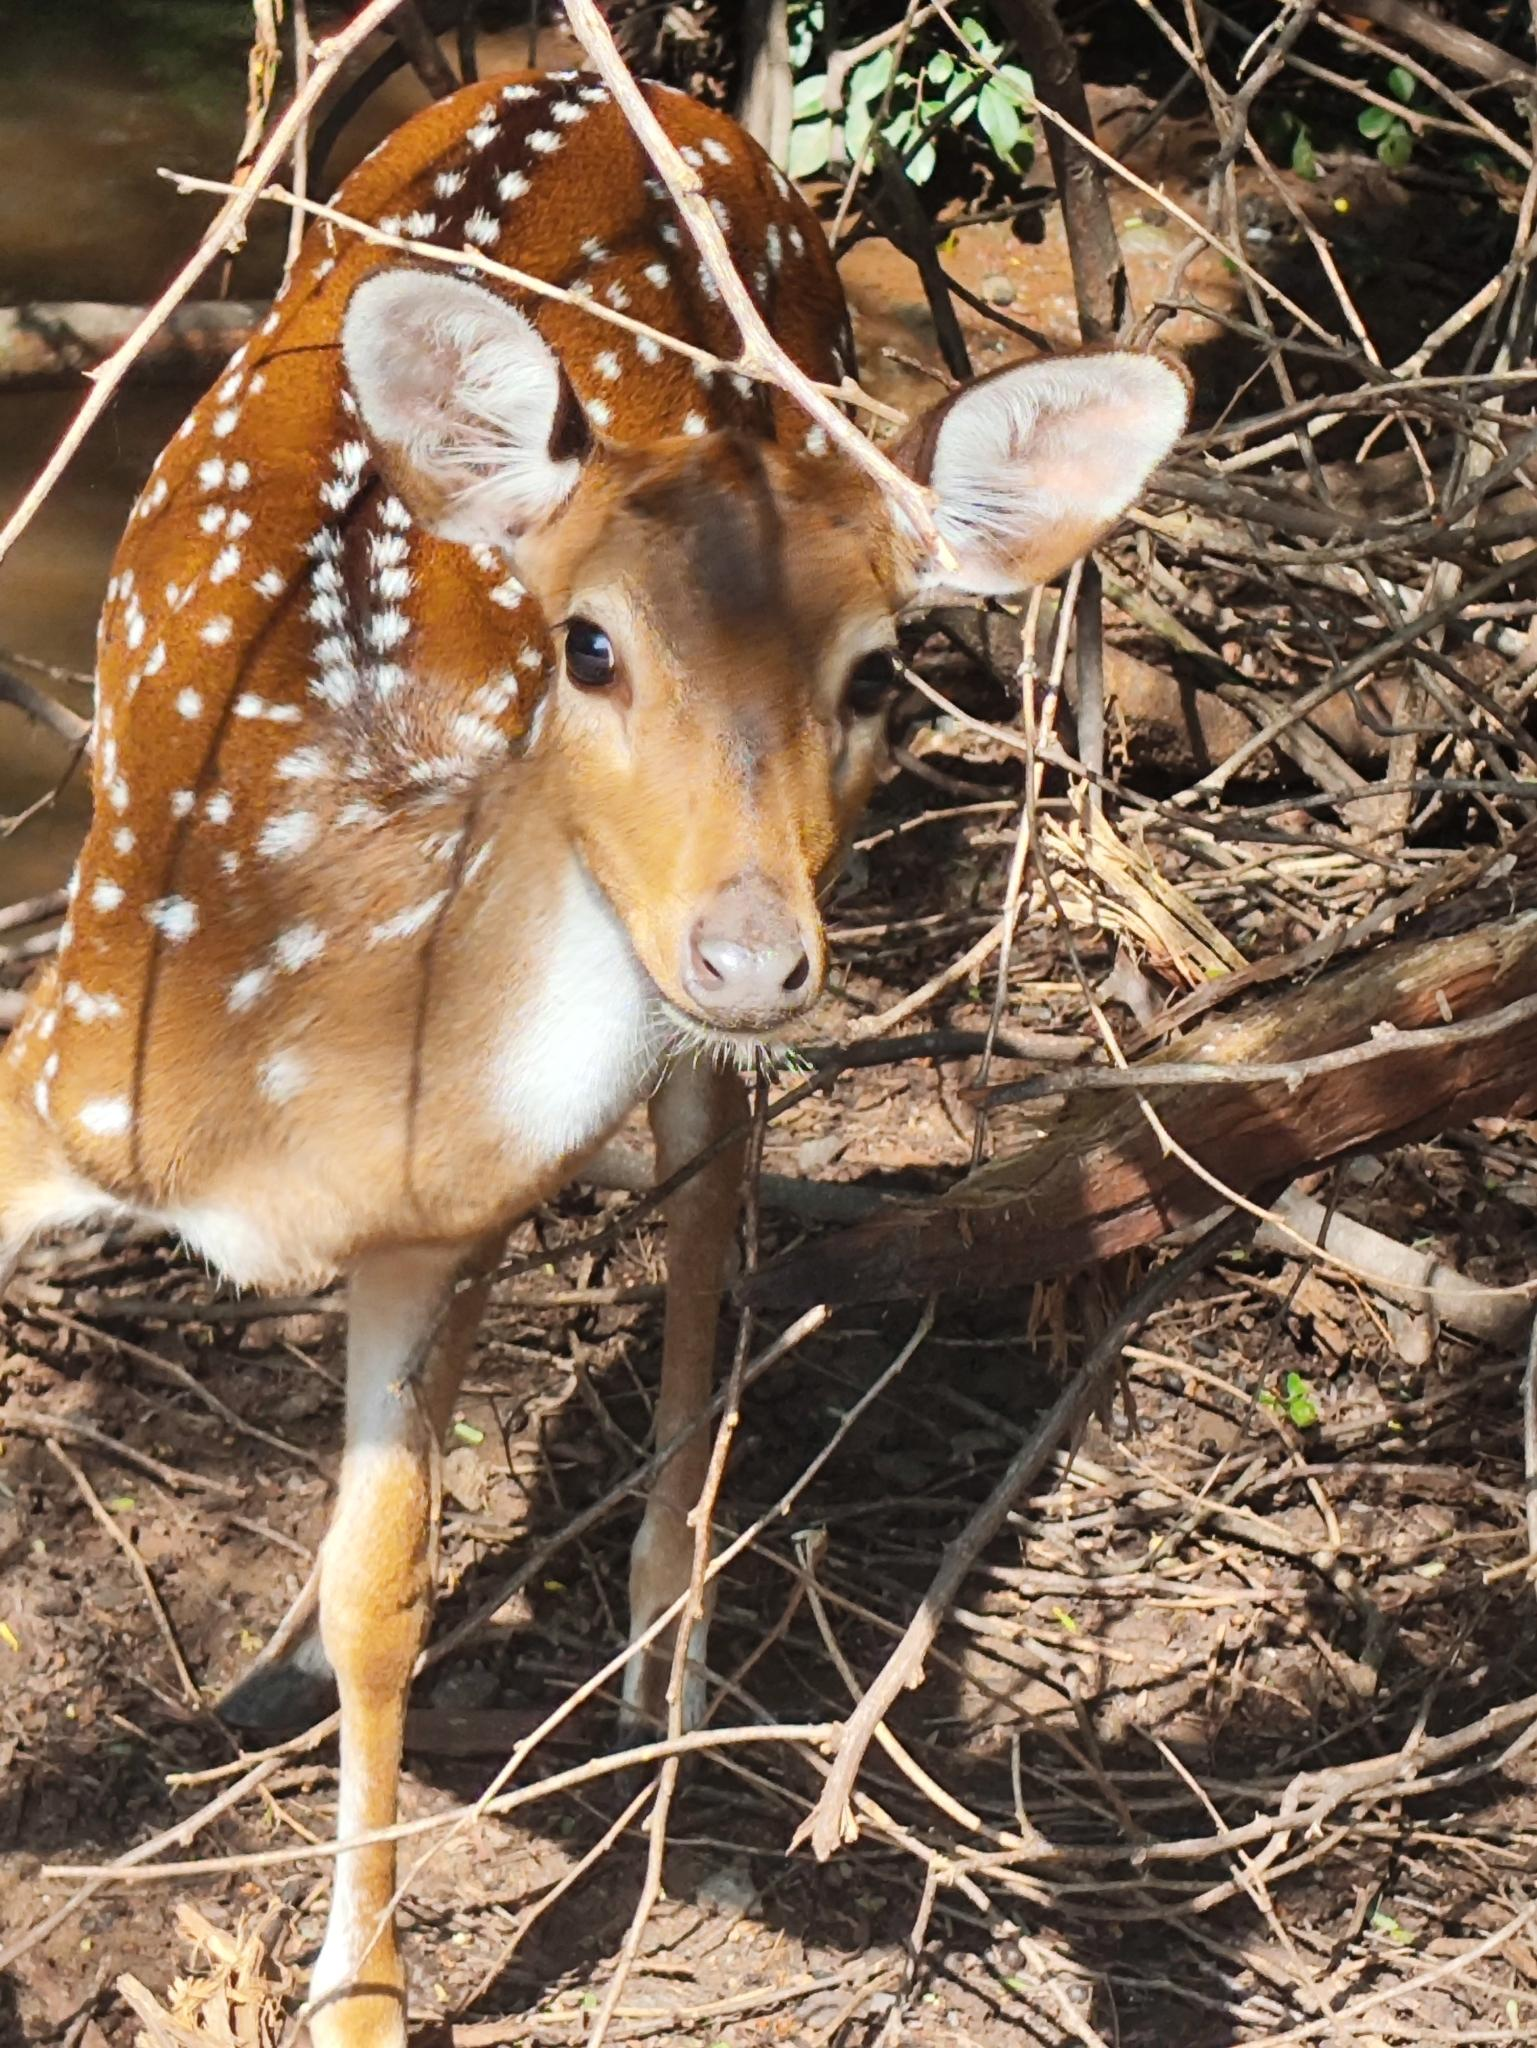Deer: (0, 73, 1187, 1846)
